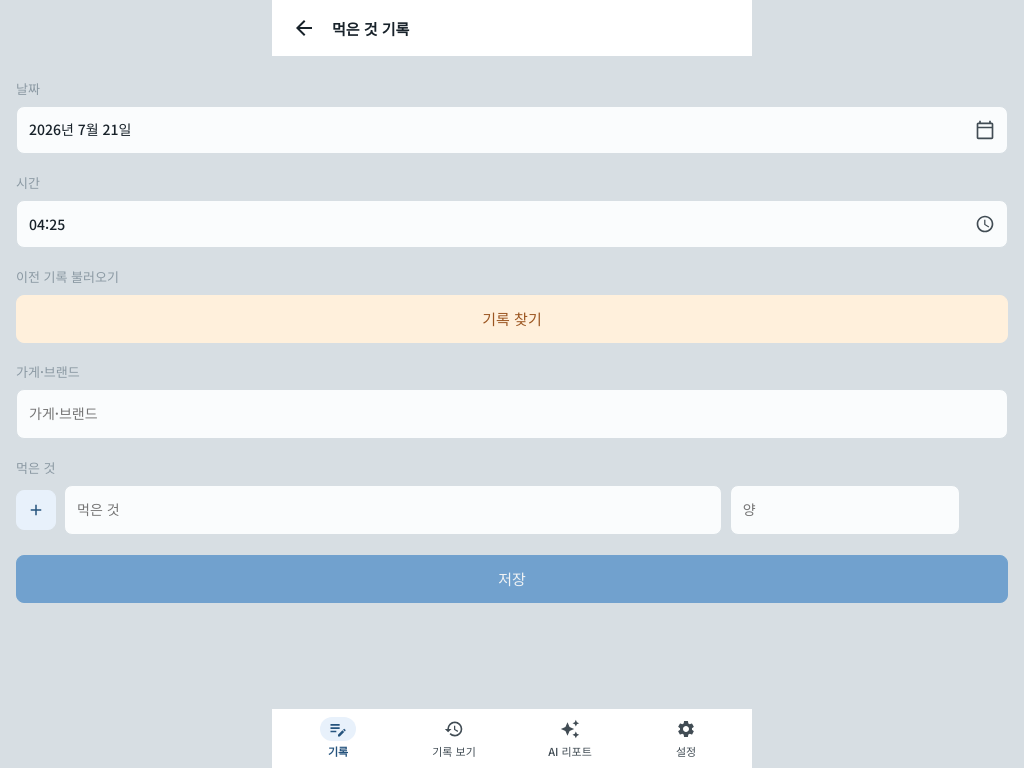
Test case: FoodPageClient › shows recent recommendations without a search and applies one to an empty form
The image size is (1024, 768).
Click the button "기록 찾기". click: (512, 319)
box: [16,295,1008,343]
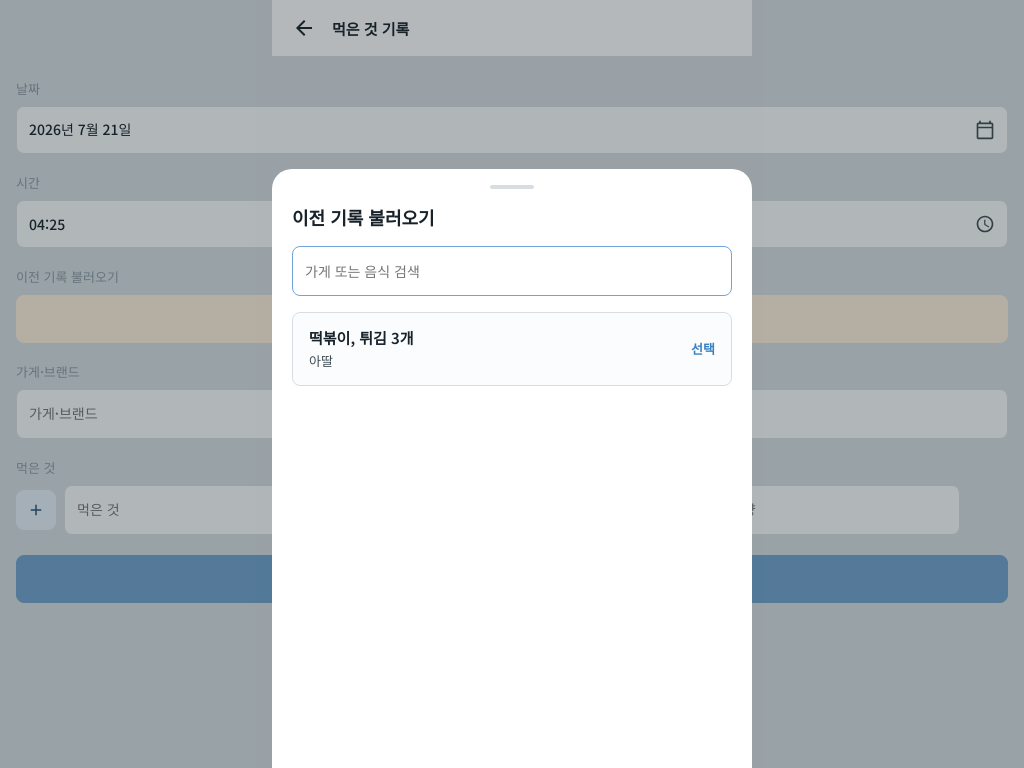
Expected: the dialog "이전 기록 불러오기" is shown, [272,169,752,767]
Expected: the search field labelled "가게 또는 음식 검색" is shown, [293,247,731,295]
Click the button "떡볶이, 튀김 3개 아딸 선택". click: (361, 338)
box: [292,312,732,386]
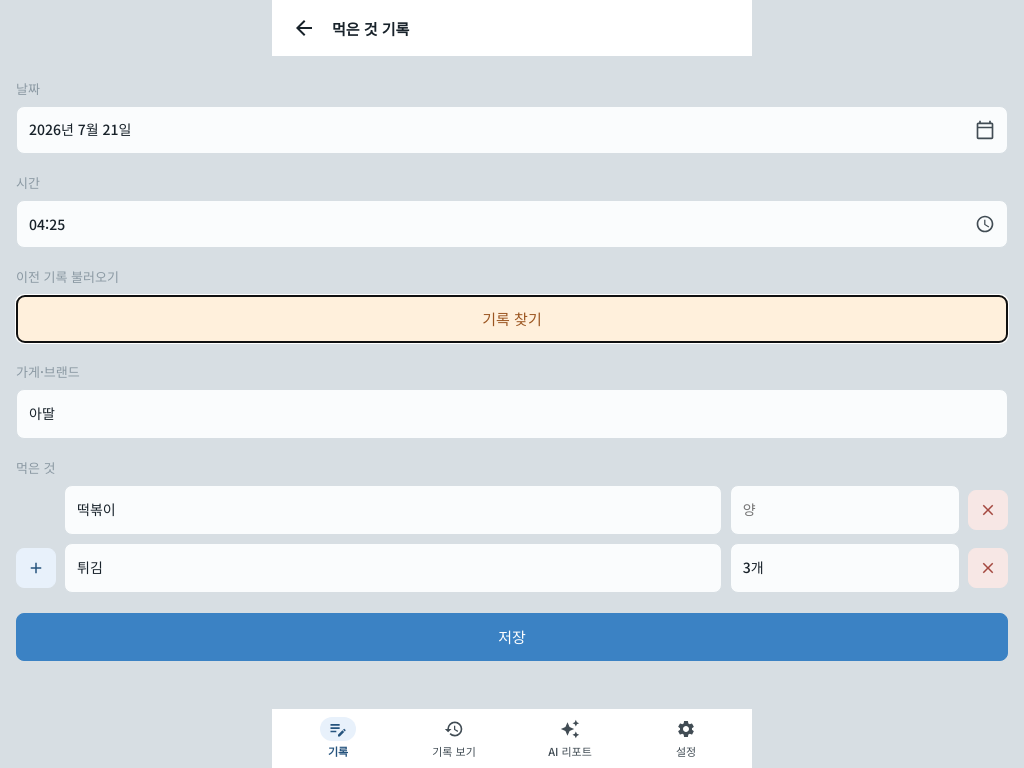
Expected: the field showing "아딸" is shown, [17,390,1007,438]
Expected: the 1st field showing "떡볶이" is shown, [65,486,721,534]
Expected: the 2nd field showing "튀김" is shown, [65,544,721,592]
